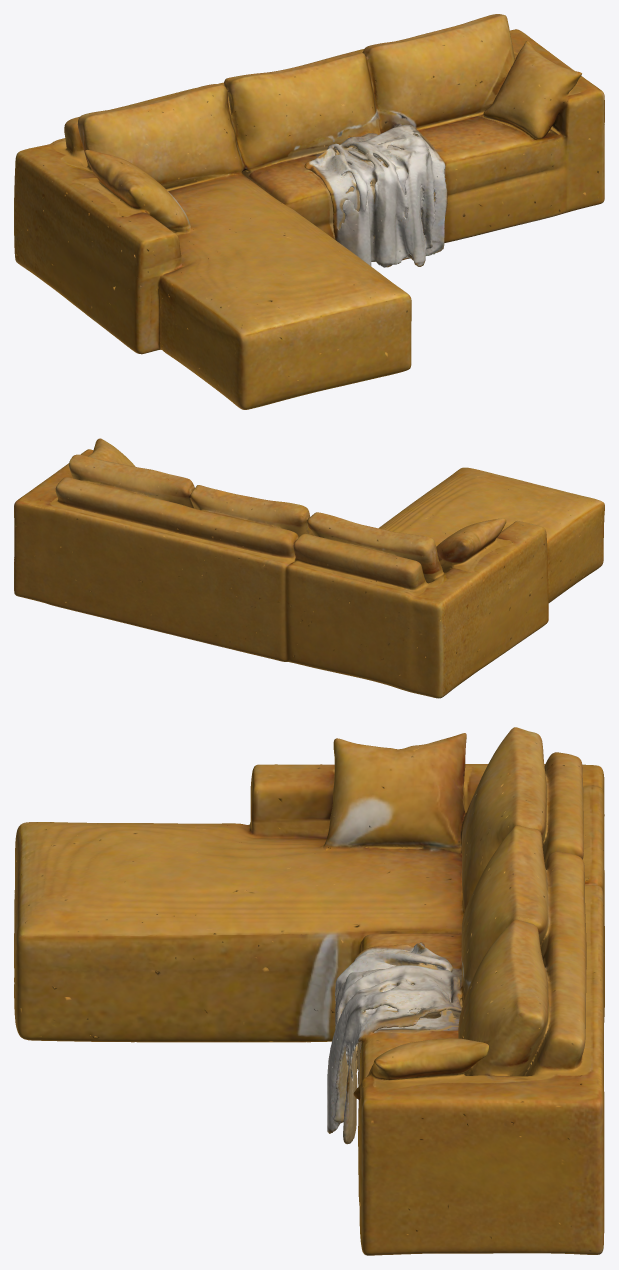
The model's file is yellow_sofa.glb.
3 renders of one model, top to bottom at view 1: azimuth 30°, elevation 25°; view 2: azimuth 150°, elevation 25°; view 3: azimuth 270°, elevation 25°, orthographic. The views are drawn at different scales.
Parts seen in each view (by area): view 1: Mesh_0; view 2: Mesh_0; view 3: Mesh_0.
Part boxes in pixels (x1,y1,x2,y2): Mesh_0: (14,14,604,409); Mesh_0: (14,438,604,698); Mesh_0: (14,727,604,1255).
Bounding box in the file's own units: 3.21 × 1 × 2.34.
1 material, 1 textured.
